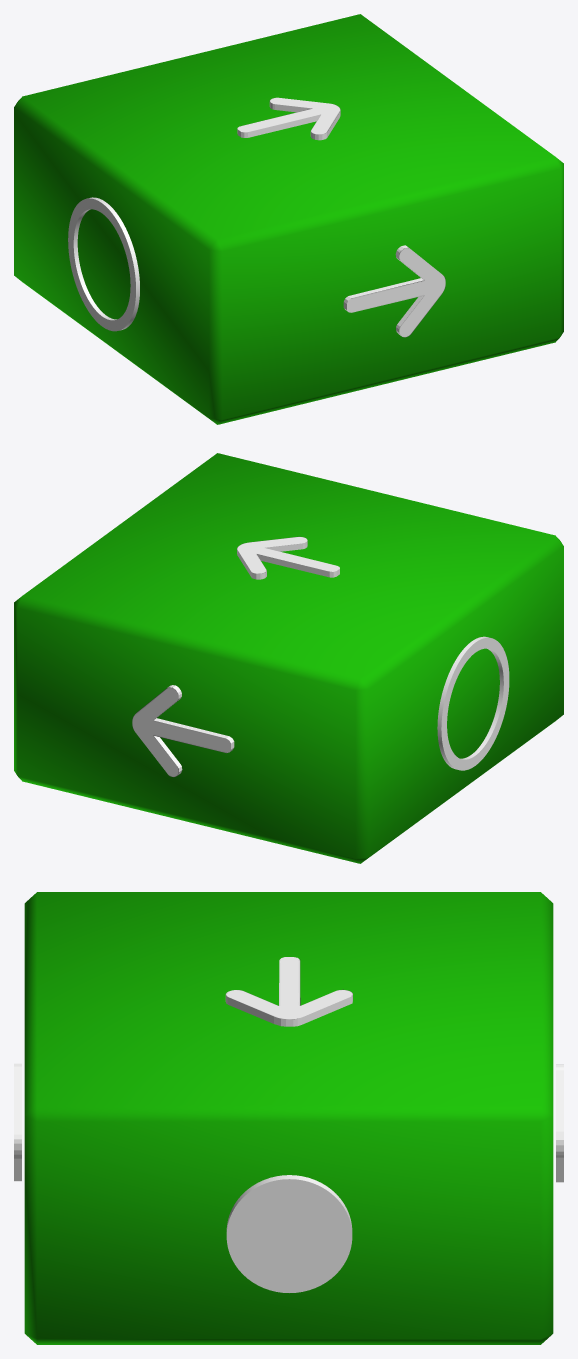
The model's file is BigBoxTapFlowBox_2_1_2_Clean_test.fbx.
The picture shows the model from 3 angles, top to bottom: view 1: azimuth 30°, elevation 25°; view 2: azimuth 150°, elevation 25°; view 3: azimuth 270°, elevation 25°; orthographic projection. The views are drawn at different scales.
Visible parts, largest first — view 1: BigBoxTapFlowBox_2_1_2_Clean_test; view 2: BigBoxTapFlowBox_2_1_2_Clean_test; view 3: BigBoxTapFlowBox_2_1_2_Clean_test.
Part boxes in pixels (x1,y1,x2,y2): BigBoxTapFlowBox_2_1_2_Clean_test: (14,14,563,424); BigBoxTapFlowBox_2_1_2_Clean_test: (14,453,563,863); BigBoxTapFlowBox_2_1_2_Clean_test: (14,892,563,1344).
Size of the model in its own units: 2.2 by 1.14 by 2.18.
Materials: 1 (1 with a texture image).
